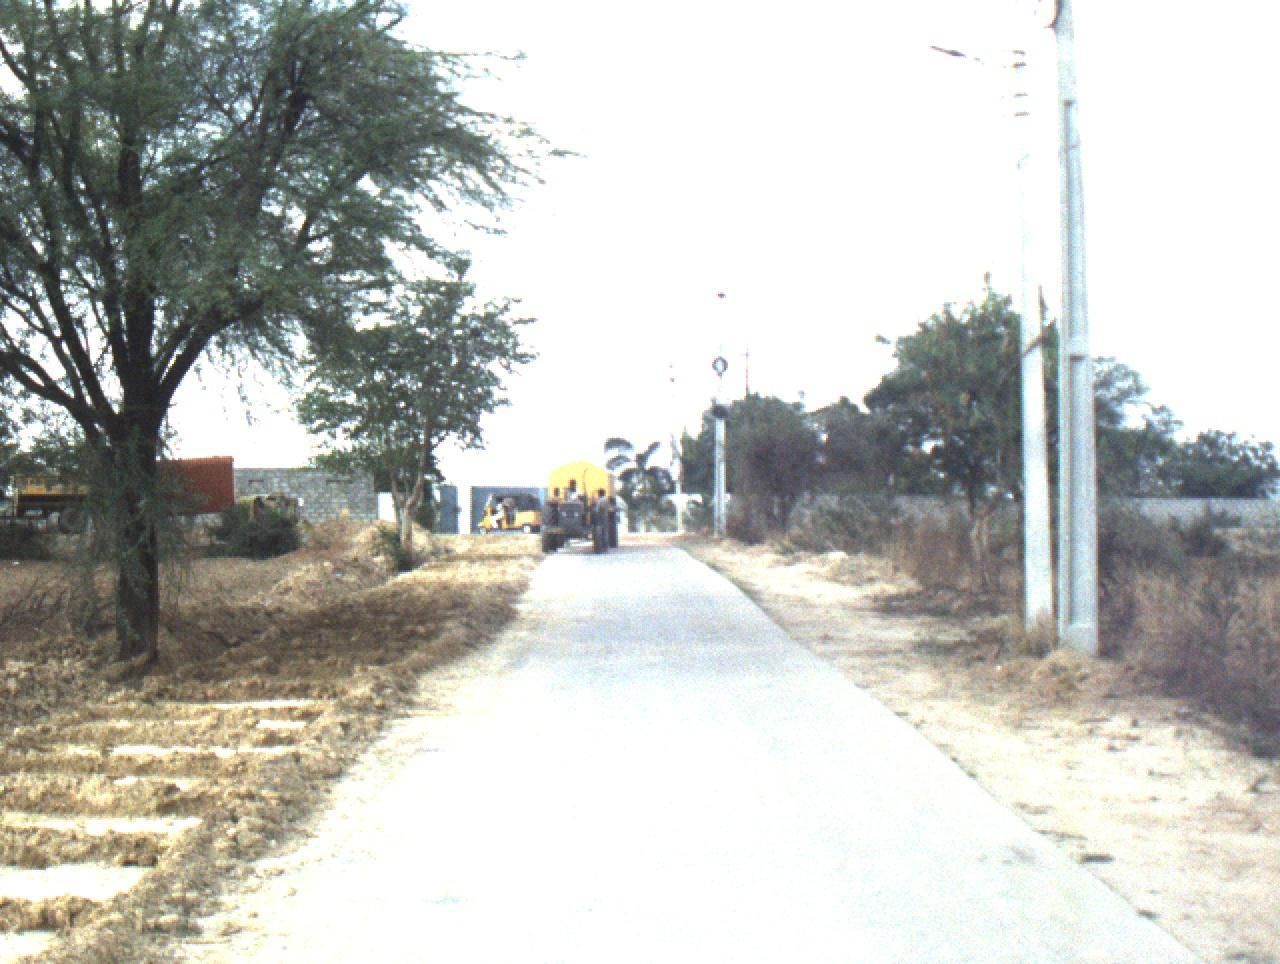off: (0, 0, 1280, 941)
